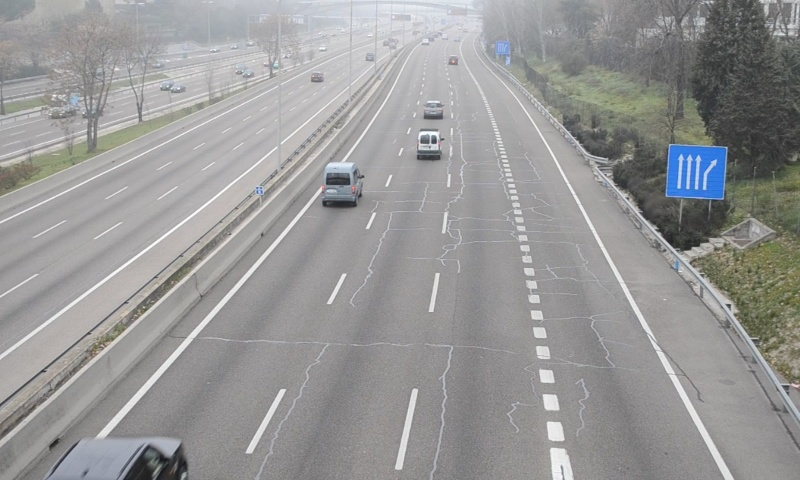car: (422, 100, 444, 119)
van: (320, 163, 362, 204), (416, 128, 442, 158)
